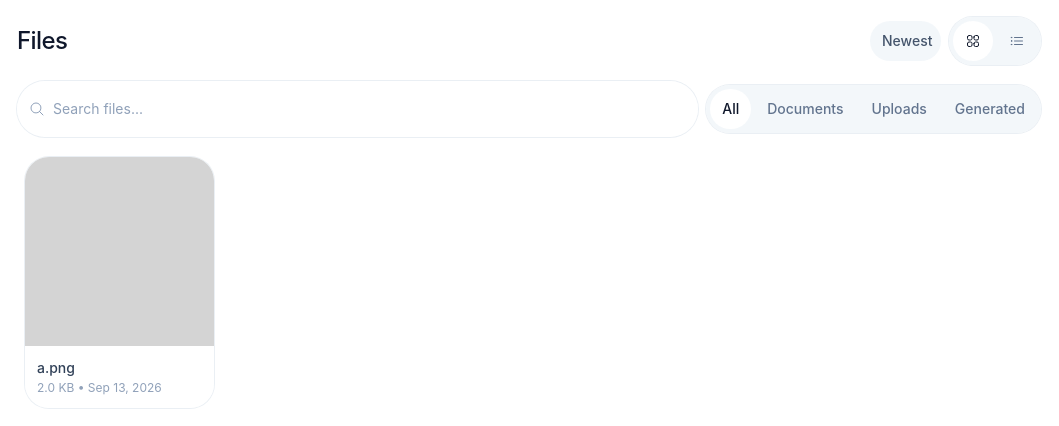
Test: switching to list view shows the table header row
Check: the text "a.png" is shown, box [37,359,75,376]
Step 1. Click the radio button named "List view" → (1017, 41), box [997,21,1037,61]
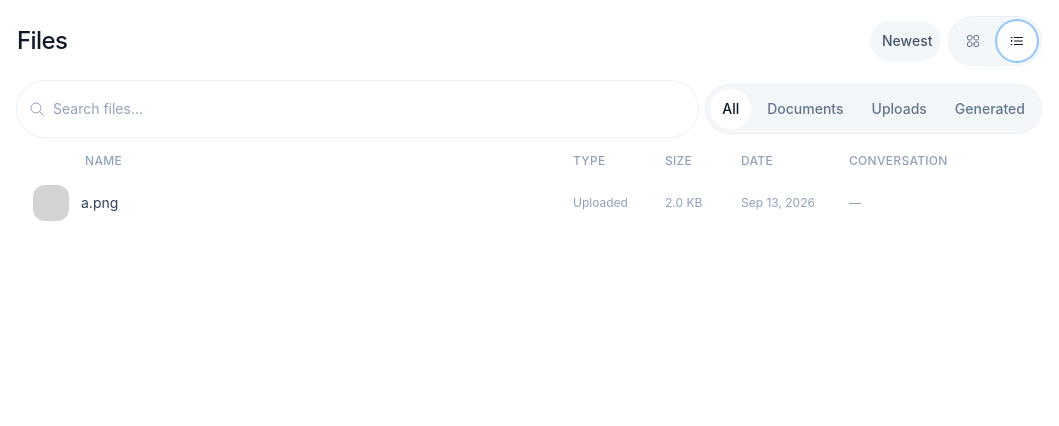
Check: the text "Conversation" is shown, box [849,153,948,168]
